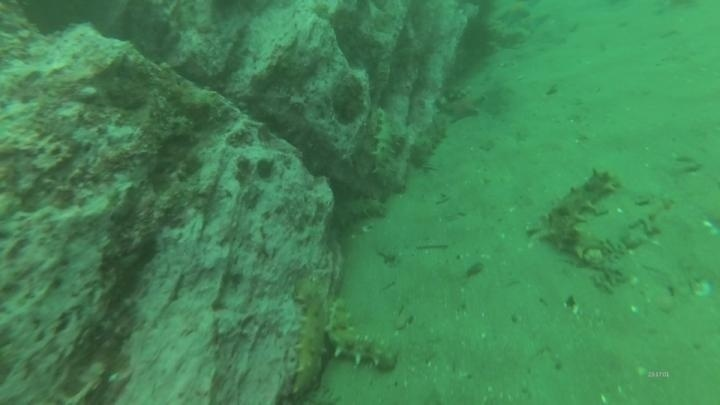holothurian: (534, 165, 622, 260), (322, 297, 401, 374), (289, 274, 333, 398), (367, 103, 409, 192), (407, 113, 450, 173), (334, 194, 391, 226)
starfish: (437, 90, 487, 125), (493, 2, 536, 27)
